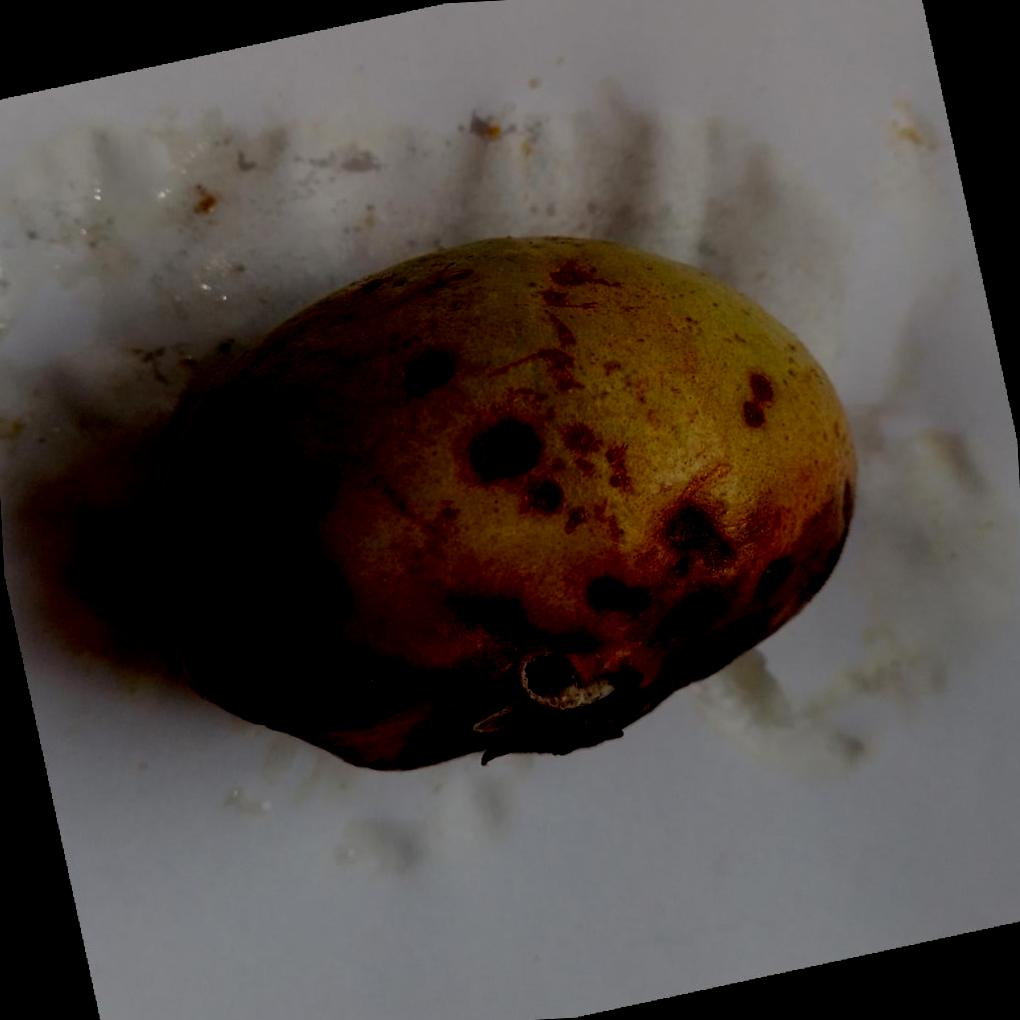FreshOrange: (146, 232, 855, 773)
